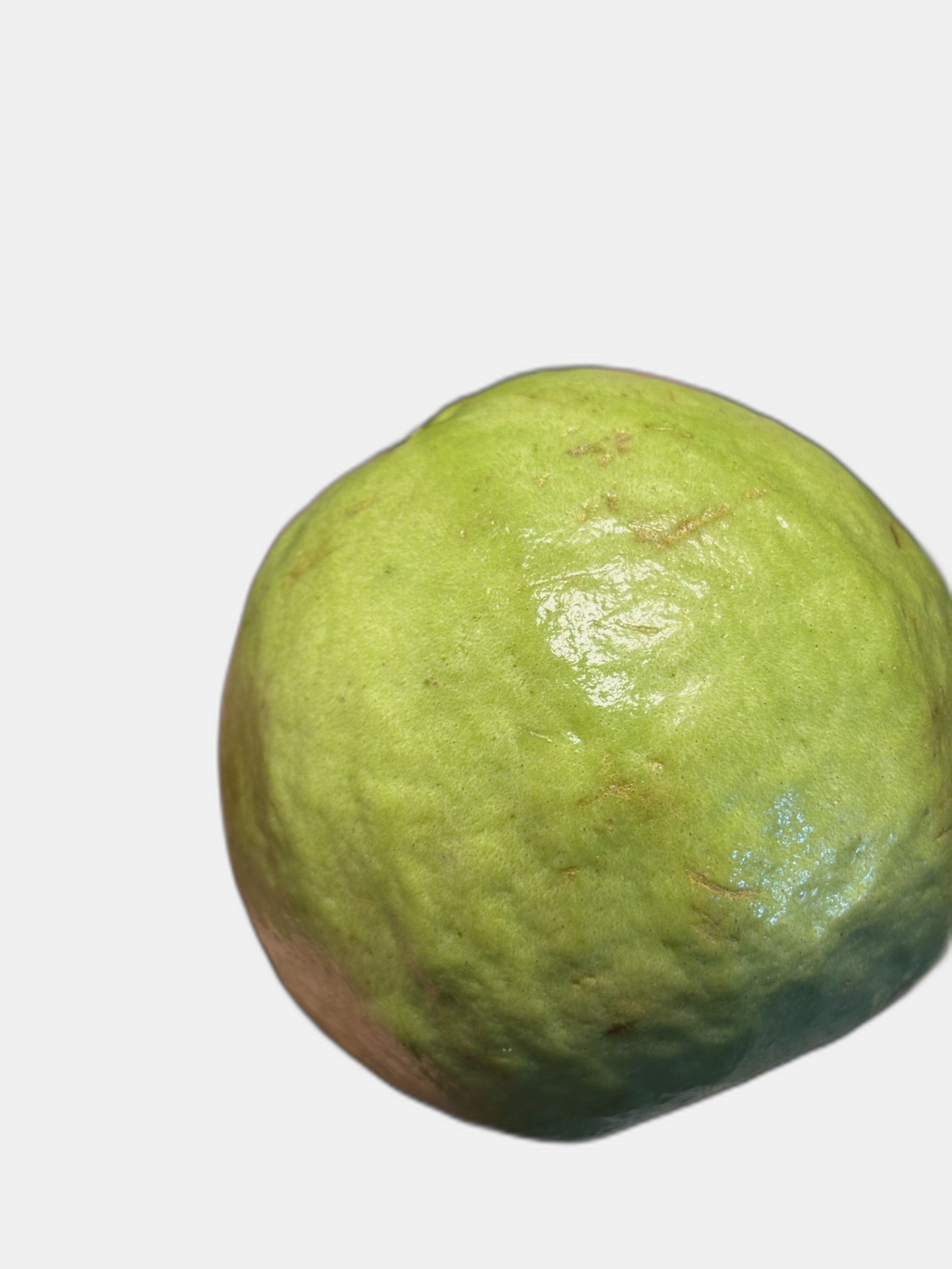guava: (91, 246, 868, 1137)
